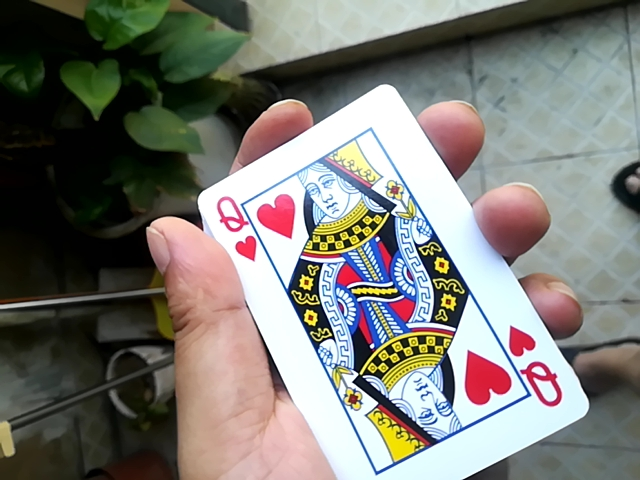hx q: (183, 71, 585, 478)
